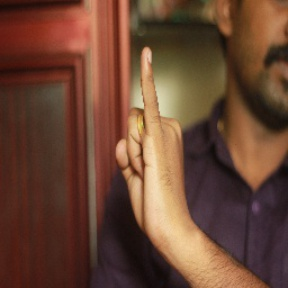I: (112, 44, 190, 222)
